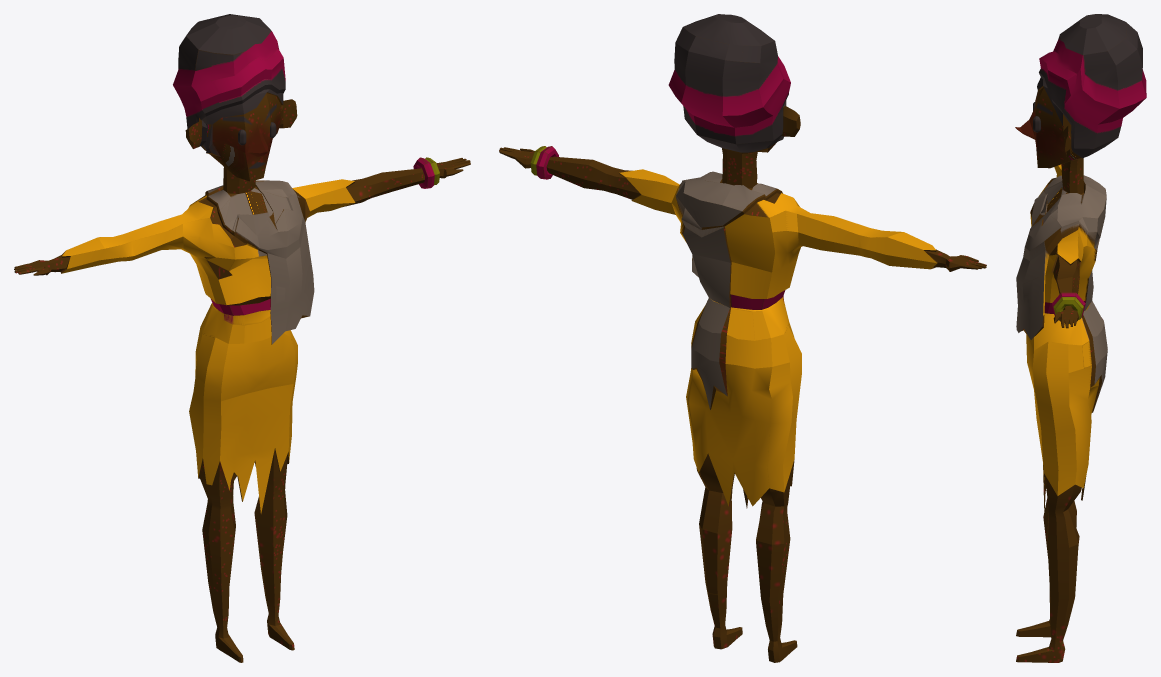
File: hiv_w.fbx
3 renders of one model, left to right at view 1: azimuth 30°, elevation 25°; view 2: azimuth 150°, elevation 25°; view 3: azimuth 270°, elevation 25°, orthographic. The views are drawn at different scales.
Visible parts, largest first — view 1: Symmetry_1; view 2: Symmetry_1; view 3: Symmetry_1, Torus.
Part boxes in pixels (<box>): Symmetry_1: <box>14,14,470,662</box>; Symmetry_1: <box>499,14,986,662</box>; Symmetry_1: <box>1015,14,1146,662</box>; Torus: <box>1053,297,1083,323</box>.
Bounding box in the file's own units: 310 × 397 × 75.16.
Materials: 1 (1 with a texture image).
